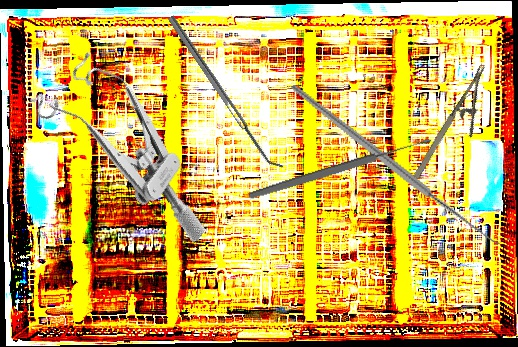Hook Surgical: (290, 31, 511, 295)
Needle Holder: (409, 62, 509, 192)
Spatula Surgical: (167, 11, 285, 175)
Speculum: (16, 39, 252, 245)
Surgical Spoon: (246, 135, 434, 202)
